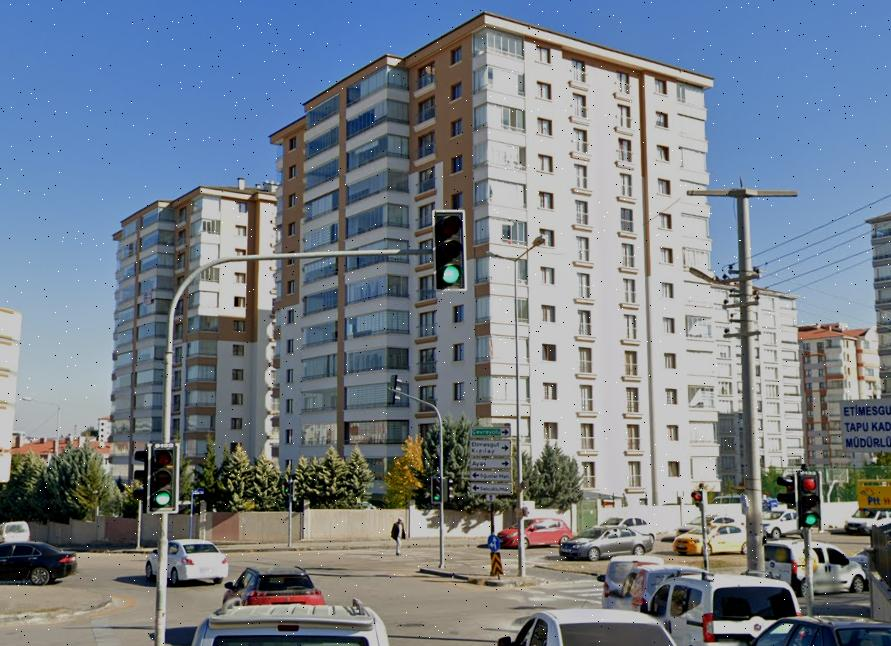greenlight: (435, 212, 464, 285), (151, 446, 177, 509)
